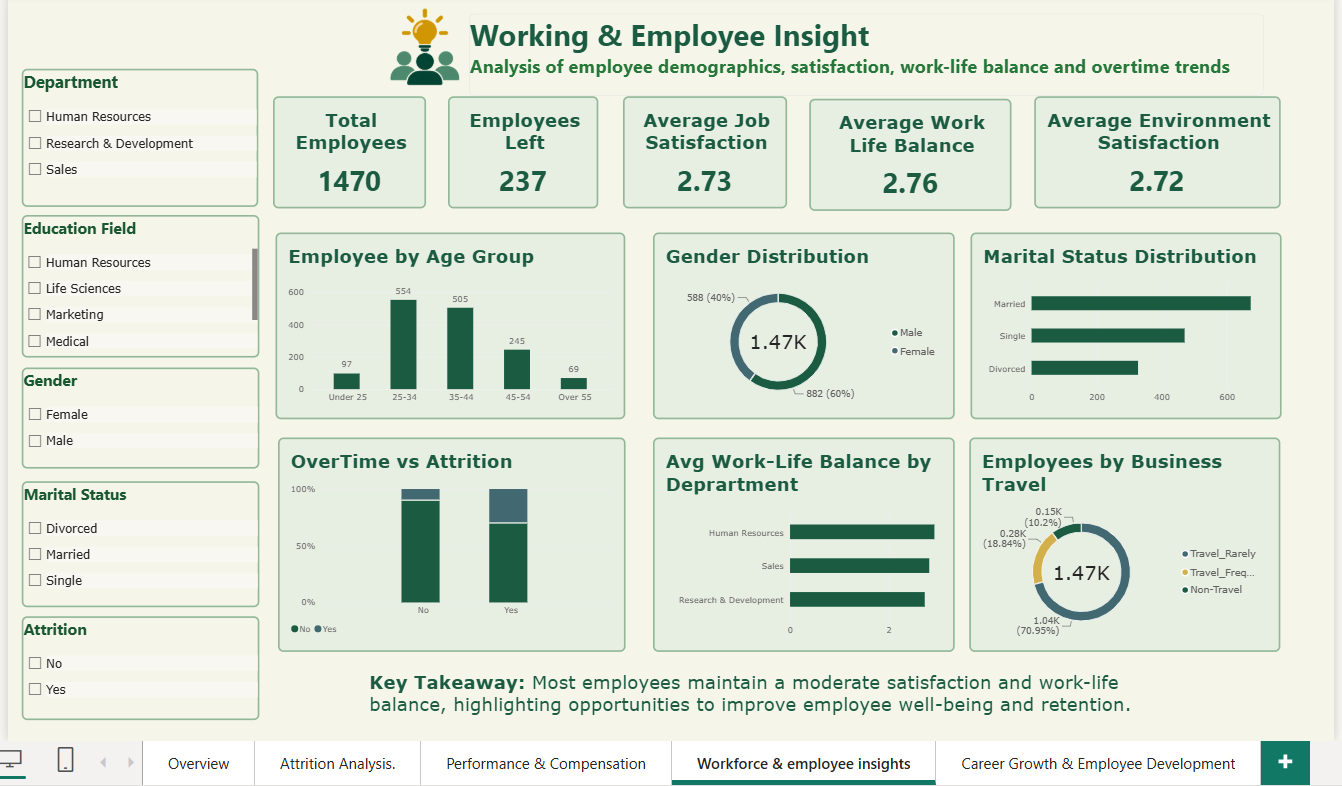

This screenshot's page, from the dashboard's own definition file:
{"tool":"powerbi","page":{"name":"Workforce & employee insights","canvas":[1920,1080],"ordinal":3},"visuals":[{"type":"textbox","box":[668,28,1150,118],"z":0},{"type":"card","title":"Total Employees","fields":{"Values":["HR_Analytics_Final.Total Employees"]},"box":[384.2,146.5,221.8,162.4],"z":1000},{"type":"card","title":"Employees Left","fields":{"Values":["HR_Analytics_Final.Employees Left"]},"box":[637.6,146.5,217.8,162.4],"z":2000},{"type":"card","title":"Average Job Satisfaction","fields":{"Values":["HR_Analytics_Final.Average Job Satisfaction"]},"box":[891.1,146.5,237.6,162.4],"z":3000},{"type":"card","title":"Average Work Life Balance","fields":{"Values":["HR_Analytics_Final.Average Work Life Balance"]},"box":[1160.4,150.5,293.1,162.4],"z":4000},{"type":"slicer","title":"Education Field","fields":{"Values":["HR_Analytics_Final.EducationField"]},"box":[19.5,318,344,206],"z":5000},{"type":"slicer","title":"Gender","fields":{"Values":["HR_Analytics_Final.Gender"]},"box":[19.5,540,344,146],"z":6000},{"type":"slicer","title":"Department","fields":{"Values":["HR_Analytics_Final.Department"]},"box":[20,107.5,342.5,200],"z":7000},{"type":"slicer","title":"Marital Status","fields":{"Values":["HR_Analytics_Final.MaritalStatus"]},"box":[19.5,704,344,182],"z":8000},{"type":"slicer","title":"Attrition","fields":{"Values":["HR_Analytics_Final.Attrition"]},"box":[19.5,900,344,150],"z":9000},{"type":"image","box":[480,14,248,120],"z":10000},{"type":"card","title":"Average Environment Satisfaction","fields":{"Values":["Avg(HR_Analytics_Final.EnvironmentSatisfaction)"]},"box":[1485.2,146.5,356.4,162.4],"z":11000},{"type":"clusteredBarChart","title":"Marital Status Distribution","fields":{"Category":["HR_Analytics_Final.MaritalStatus"],"Y":["CountNonNull(HR_Analytics_Final.EmployeeNumber)"]},"box":[1393.3,343.3,450,270],"z":12000},{"type":"clusteredColumnChart","title":"Employee by Age Group","fields":{"Category":["HR_Analytics_Final.AgeGroupDisplay"],"Y":["CountNonNull(HR_Analytics_Final.EmployeeNumber)"]},"box":[386.7,343.3,506.7,270],"z":13000},{"type":"donutChart","title":"Gender Distribution","fields":{"Category":["HR_Analytics_Final.Gender"],"Y":["CountNonNull(HR_Analytics_Final.EmployeeNumber)"]},"box":[933.3,343.3,436.7,270],"z":14000},{"type":"hundredPercentStackedColumnChart","title":"OverTime vs Attrition","fields":{"Category":["HR_Analytics_Final.OverTime"],"Series":["HR_Analytics_Final.Attrition"],"Y":["CountNonNull(HR_Analytics_Final.EmployeeNumber)"]},"box":[390,640,503.3,310],"z":15000},{"type":"clusteredBarChart","title":"Avg Work-Life Balance by Deprartment","fields":{"Category":["HR_Analytics_Final.Department"],"Y":["Avg(HR_Analytics_Final.WorkLifeBalance)"]},"box":[933.3,640,436.7,310],"z":16000},{"type":"donutChart","title":"Employees by Business Travel","fields":{"Category":["HR_Analytics_Final.BusinessTravel"],"Y":["CountNonNull(HR_Analytics_Final.EmployeeNumber)"]},"box":[1391.7,640,450,310],"z":17000},{"type":"textbox","box":[100,100,300,300],"z":18000},{"type":"textbox","box":[100,100,300,300],"z":19000},{"type":"textbox","box":[100,100,300,300],"z":20000},{"type":"textbox","box":[523.3,976.7,1140,73.3],"z":21000}]}

Visuals, with their boxes on the page's 1920x1080 design canvas (x1, y1, x2, y2). These are canvas units, not pixel positions in the 1342x786 screenshot, which may show the page scaled, cropped or inside an application window:
textbox: <region>668, 28, 1818, 146</region>
"Total Employees" card: <region>384, 146, 606, 309</region>
"Employees Left" card: <region>638, 146, 855, 309</region>
"Average Job Satisfaction" card: <region>891, 146, 1129, 309</region>
"Average Work Life Balance" card: <region>1160, 150, 1454, 313</region>
"Education Field" slicer: <region>20, 318, 364, 524</region>
"Gender" slicer: <region>20, 540, 364, 686</region>
"Department" slicer: <region>20, 108, 362, 308</region>
"Marital Status" slicer: <region>20, 704, 364, 886</region>
"Attrition" slicer: <region>20, 900, 364, 1050</region>
image: <region>480, 14, 728, 134</region>
"Average Environment Satisfaction" card: <region>1485, 146, 1842, 309</region>
"Marital Status Distribution" clusteredBarChart: <region>1393, 343, 1843, 613</region>
"Employee by Age Group" clusteredColumnChart: <region>387, 343, 893, 613</region>
"Gender Distribution" donutChart: <region>933, 343, 1370, 613</region>
"OverTime vs Attrition" hundredPercentStackedColumnChart: <region>390, 640, 893, 950</region>
"Avg Work-Life Balance by Deprartment" clusteredBarChart: <region>933, 640, 1370, 950</region>
"Employees by Business Travel" donutChart: <region>1392, 640, 1842, 950</region>
textbox: <region>100, 100, 400, 400</region>
textbox: <region>100, 100, 400, 400</region>
textbox: <region>100, 100, 400, 400</region>
textbox: <region>523, 977, 1663, 1050</region>
